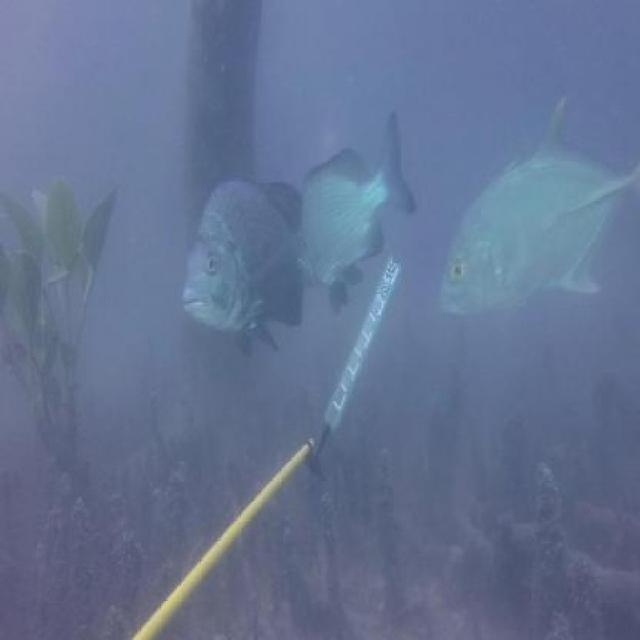Caranx: (434, 88, 640, 332)
acanthopagrus_palmaris: (290, 108, 416, 314), (178, 173, 311, 359)
